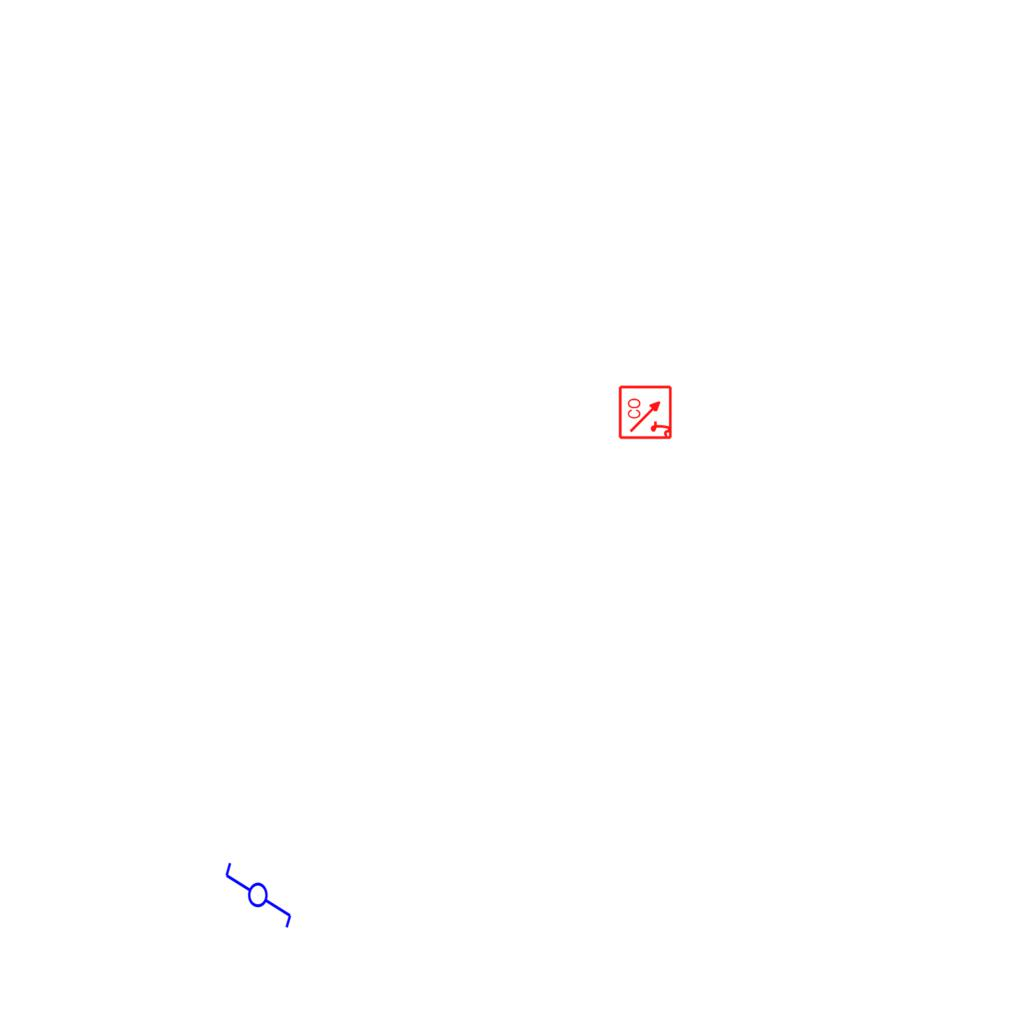ROA_Rauchmelder_optisch_mit_Signalgeber_(Sockelsirene): (618, 384, 674, 440)
Wechselschalter: (223, 852, 295, 930)
